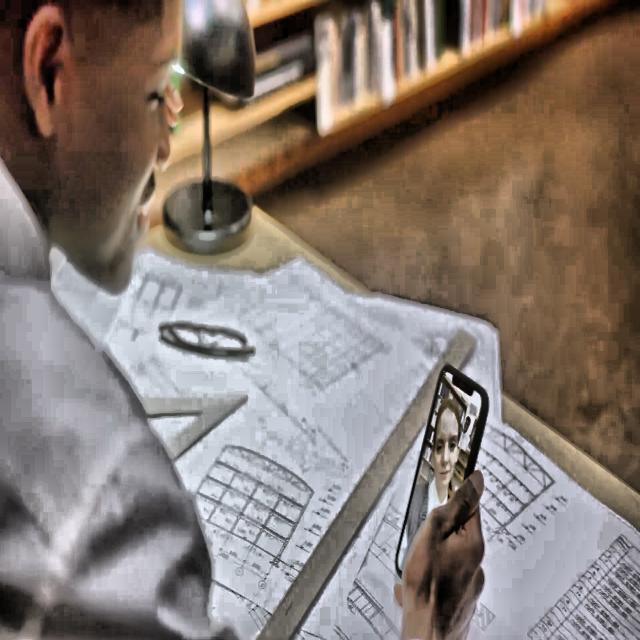Phone: (392, 360, 490, 588)
